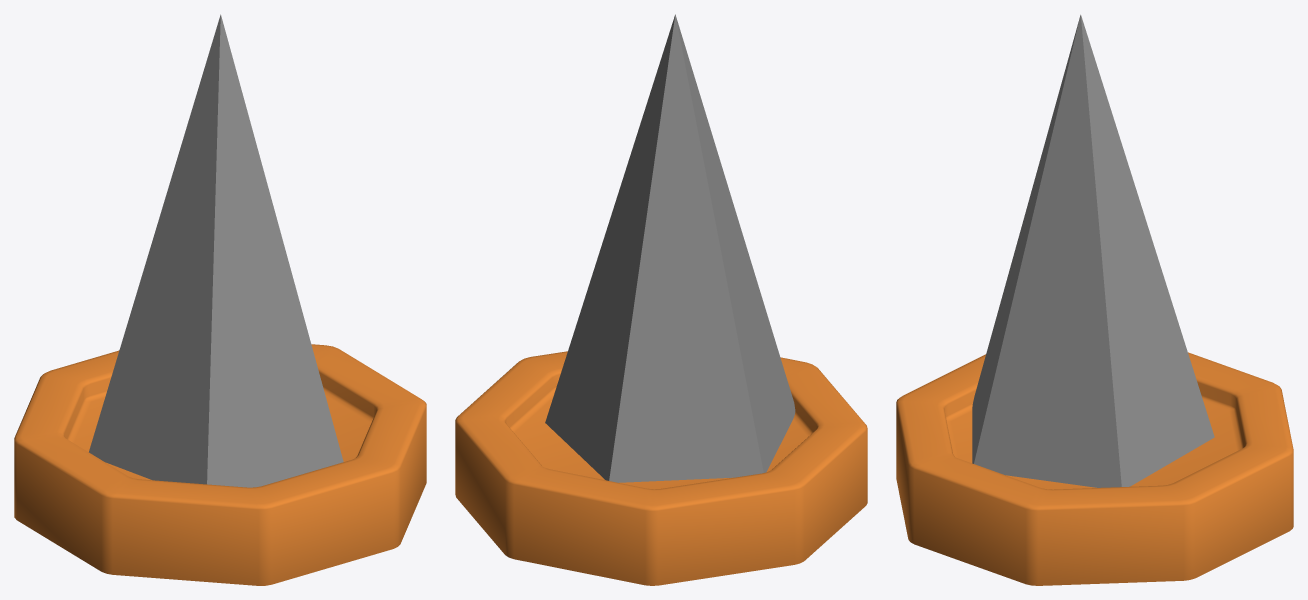
File: Place_Trap_1.fbx
The picture shows the model from 3 angles, left to right: view 1: azimuth 30°, elevation 25°; view 2: azimuth 150°, elevation 25°; view 3: azimuth 270°, elevation 25°; orthographic projection. The views are drawn at different scales.
Parts seen in each view (by area): view 1: Place_Trap_2, Place_Trap_1; view 2: Place_Trap_2, Place_Trap_1; view 3: Place_Trap_2, Place_Trap_1.
Part boxes in pixels (x1=…): Place_Trap_2: x1=89, y1=14, x2=343, y2=487; Place_Trap_1: x1=14, y1=344, x2=426, y2=585; Place_Trap_2: x1=545, y1=14, x2=795, y2=482; Place_Trap_1: x1=455, y1=351, x2=867, y2=585; Place_Trap_2: x1=972, y1=14, x2=1214, y2=487; Place_Trap_1: x1=896, y1=352, x2=1293, y2=585.
Bounding box in the file's own units: 0.7418 × 0.9975 × 0.7418.
